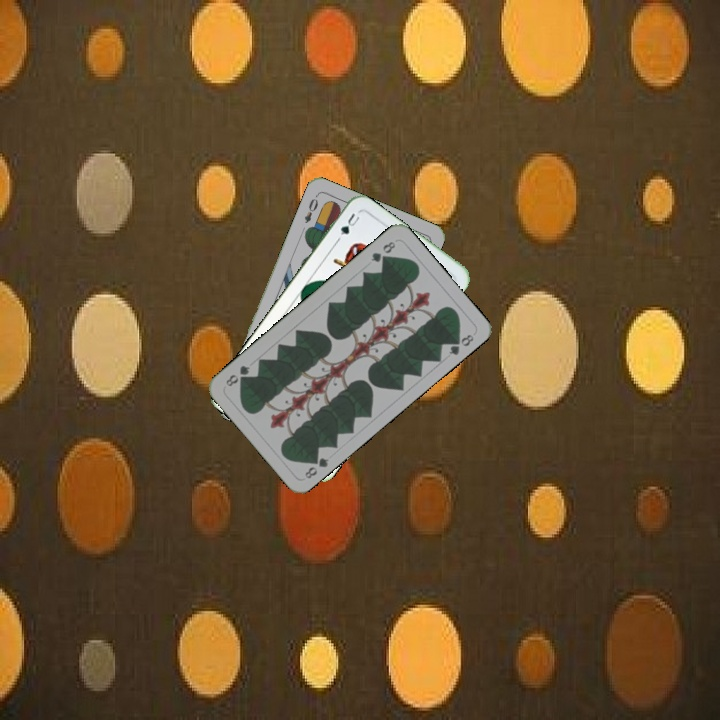EO: (300, 191, 321, 226)
G8: (301, 451, 331, 481), (367, 237, 398, 265)
GU: (336, 209, 362, 238)
